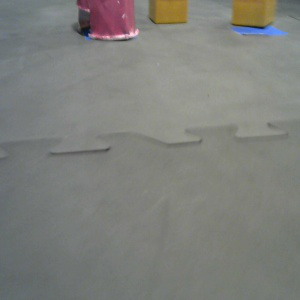middle: (76, 1, 139, 40)
